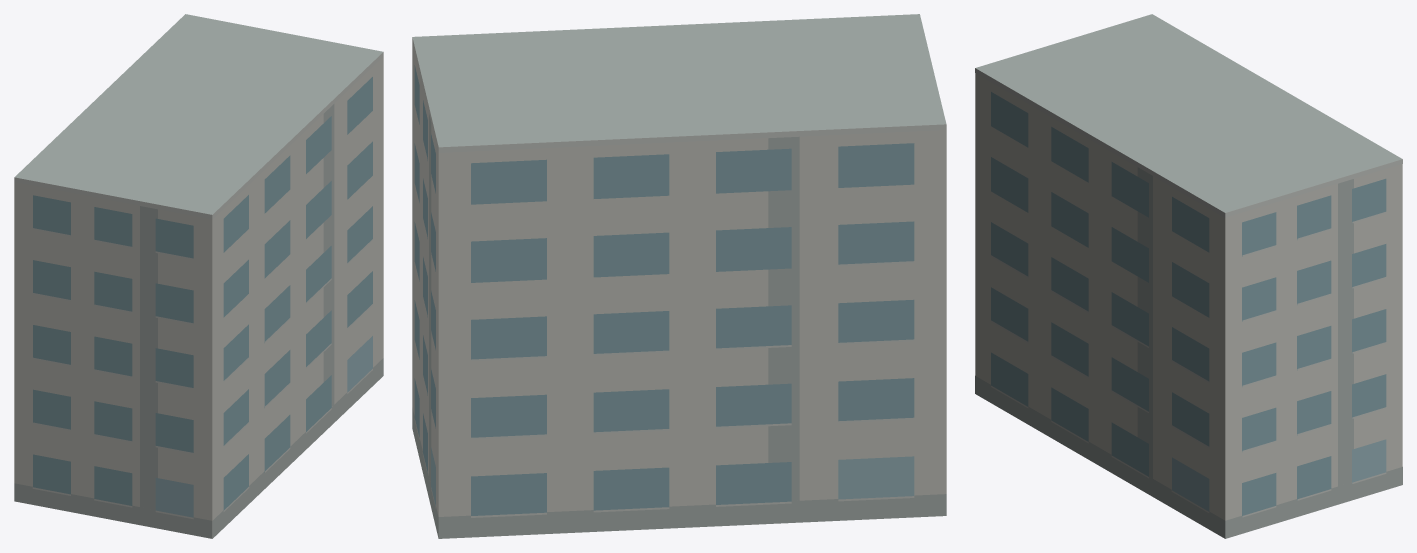
File: survey-upis-32909430.glb
3 renders of one model, left to right at view 1: azimuth 30°, elevation 25°; view 2: azimuth 150°, elevation 25°; view 3: azimuth 270°, elevation 25°, orthographic. The views are drawn at different scales.
Visible parts, largest first — view 1: survey-upis-32909430.tmp; view 2: survey-upis-32909430.tmp; view 3: survey-upis-32909430.tmp.
Part boxes in pixels (<box>): survey-upis-32909430.tmp: <box>14,14,383,538</box>; survey-upis-32909430.tmp: <box>412,14,946,538</box>; survey-upis-32909430.tmp: <box>975,14,1402,538</box>.
Bounding box in the file's own units: 21.63 × 16.5 × 19.63.
